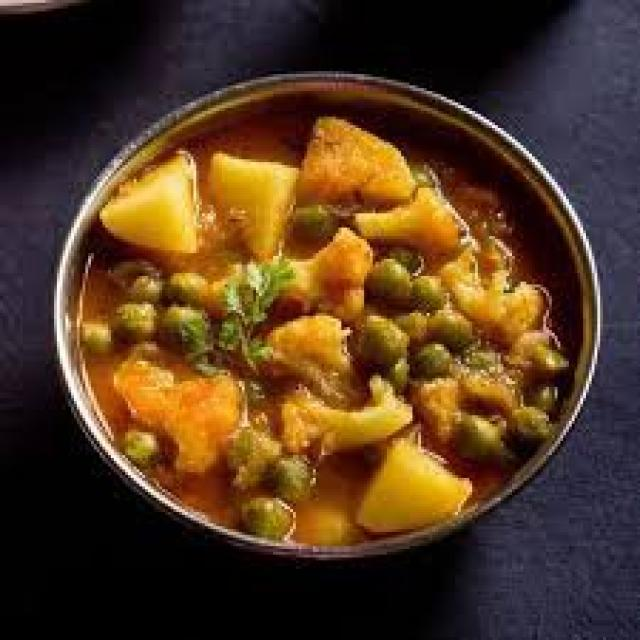potato: (131, 159, 514, 522), (123, 156, 294, 282)
